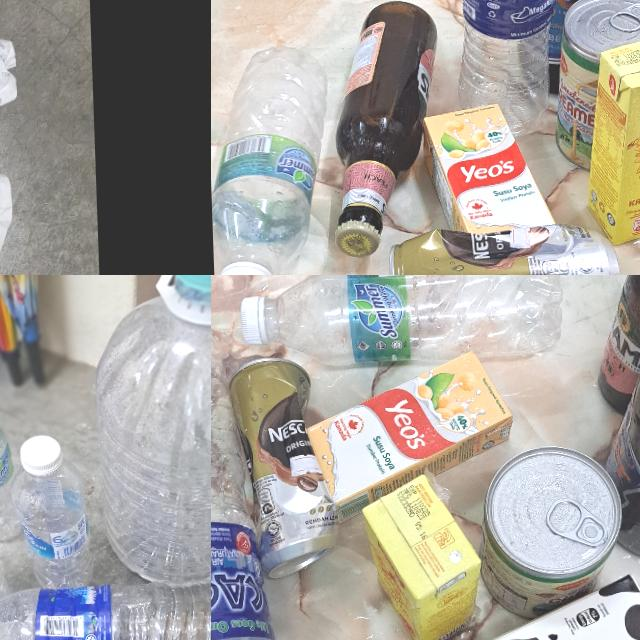aba de lata: (540, 488, 608, 554), (609, 1, 640, 31)
caixinha: (306, 348, 516, 509), (246, 573, 640, 640), (361, 469, 475, 640), (421, 102, 554, 236), (583, 30, 640, 246)
garrafa de vidro: (327, 1, 443, 260), (509, 0, 640, 92), (601, 341, 640, 561), (591, 275, 640, 412)
garrafa plástica: (90, 283, 211, 587), (211, 43, 333, 275), (262, 275, 568, 366), (211, 329, 277, 640), (451, 0, 565, 139), (0, 579, 211, 640), (11, 460, 96, 588), (0, 405, 21, 541)
lata: (482, 440, 624, 626), (226, 349, 338, 579), (552, 0, 640, 174), (385, 221, 624, 275)
tampa plástica: (19, 434, 61, 472), (238, 288, 266, 342), (215, 261, 275, 275)
